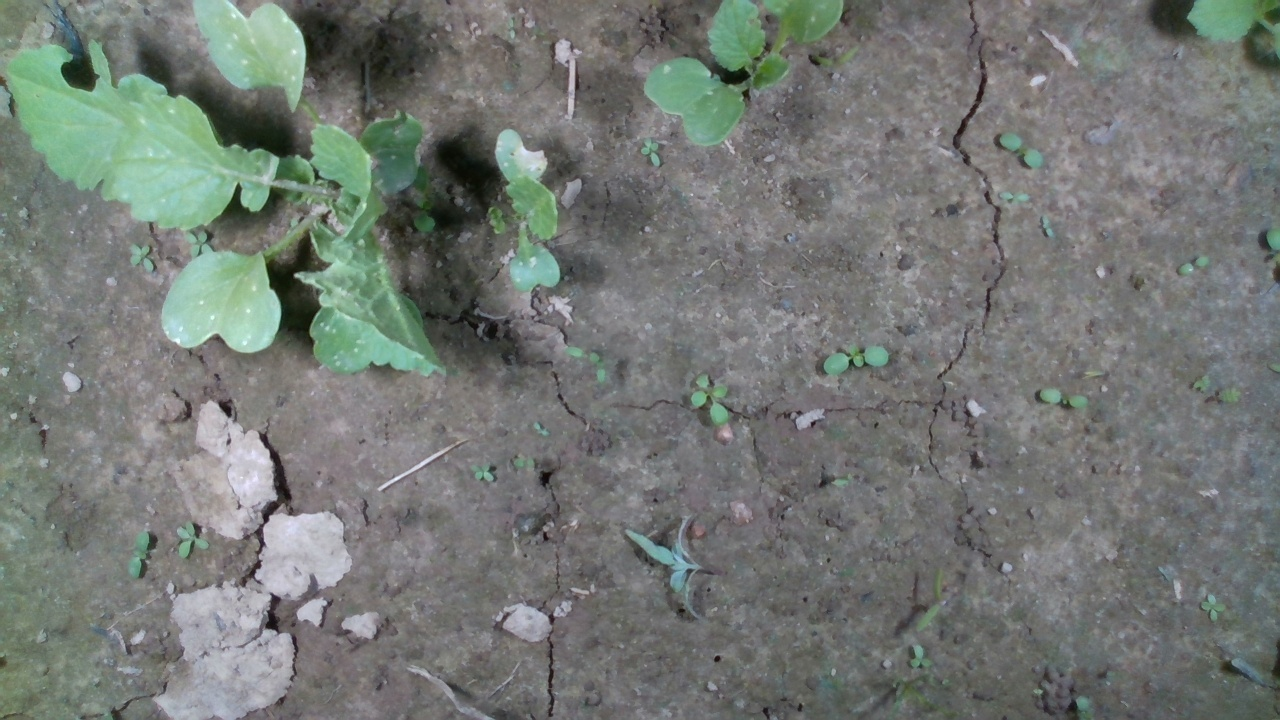weed: (820, 339, 891, 377), (688, 372, 731, 426), (913, 565, 946, 632), (997, 130, 1043, 170), (174, 518, 210, 559), (127, 528, 152, 581), (1037, 386, 1089, 410), (1195, 592, 1227, 622), (126, 243, 155, 274), (638, 136, 663, 170), (1175, 255, 1211, 275), (468, 458, 495, 484), (908, 643, 933, 668), (997, 189, 1031, 204), (1041, 211, 1053, 238)
